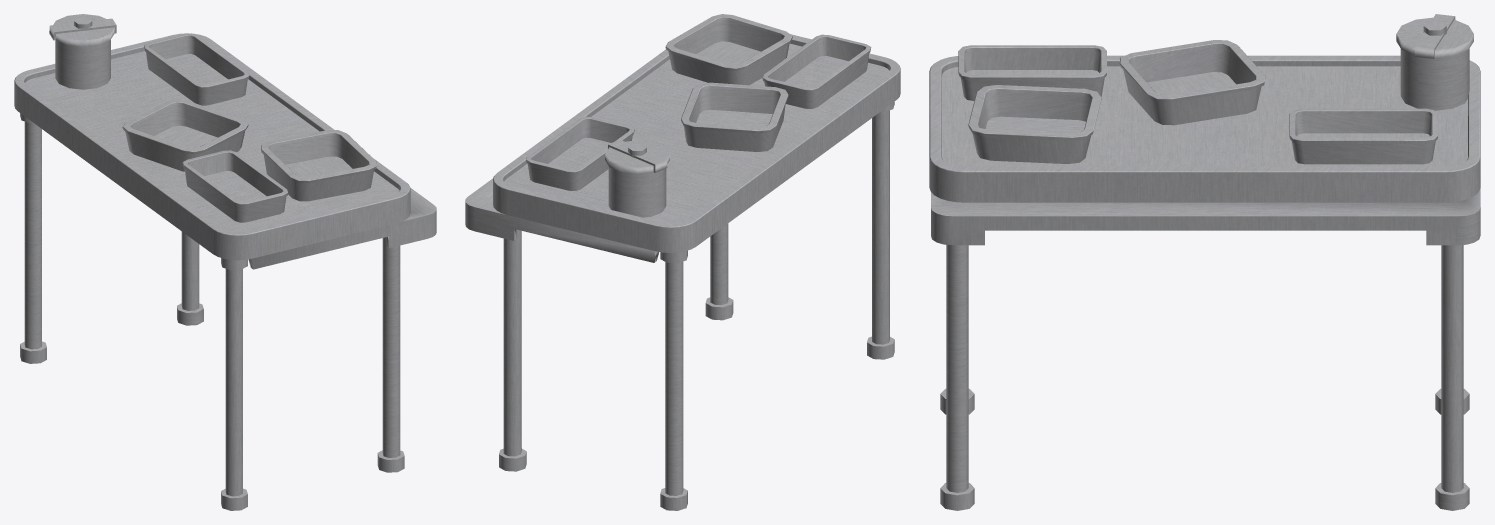
The model's file is ChirurgStol.glb.
3 views of the same model, side by side, from view 1: azimuth 30°, elevation 25°; view 2: azimuth 150°, elevation 25°; view 3: azimuth 270°, elevation 25° (orthographic). The views are drawn at different scales.
Visible parts, largest first — view 1: ChirurgStol; view 2: ChirurgStol; view 3: ChirurgStol.
Boxes of the visible parts, <box> form: ChirurgStol: <box>14,14,436,510</box>; ChirurgStol: <box>465,14,900,510</box>; ChirurgStol: <box>929,14,1480,510</box>.
Bounding box in the file's own units: 0.8934 × 1.31 × 1.6.
Materials: 1 (1 with a texture image).
